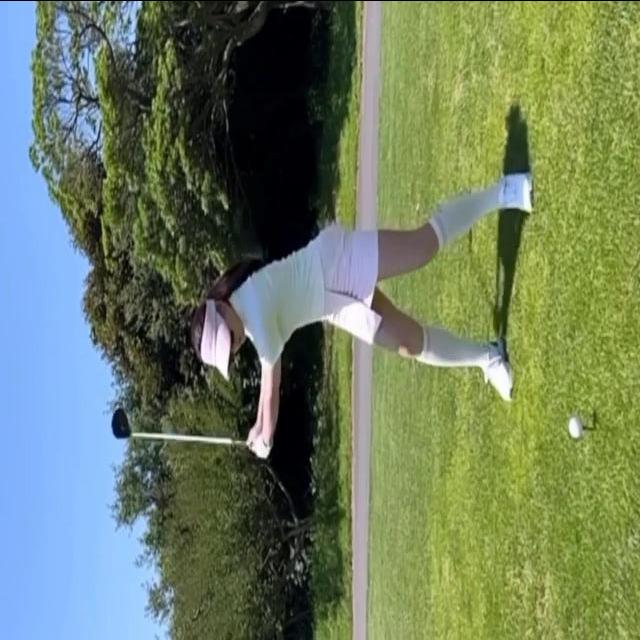golf ball: (568, 415, 581, 437)
golf club-handle: (111, 406, 242, 443)
golf club-head: (111, 406, 133, 436)
